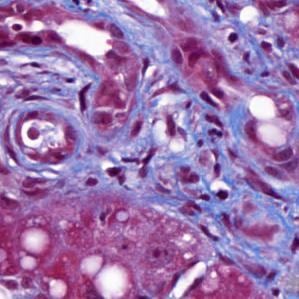inflammation: (196, 90, 229, 113), (205, 178, 235, 203), (103, 163, 134, 186)
